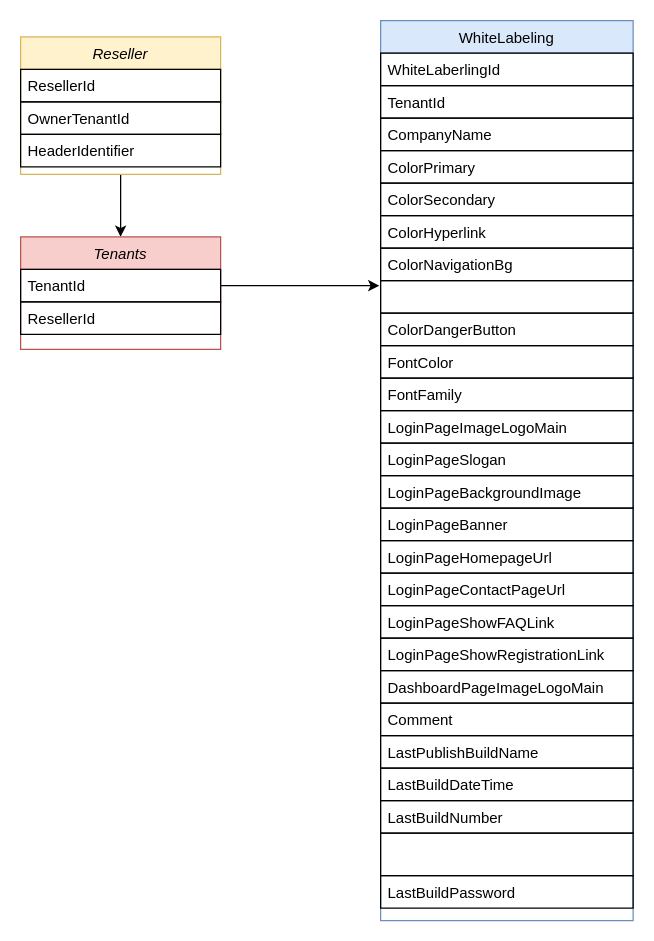
The diagram is 654 pixels wide and 941 high, and some of its shapes have lost their labels. The centre of each missing label's shape, as x and y in pixels:
"ColorDashboardHeaderFooterBg" belongs at point 506,296.
"LastBuildUserName" belongs at point 506,854.
